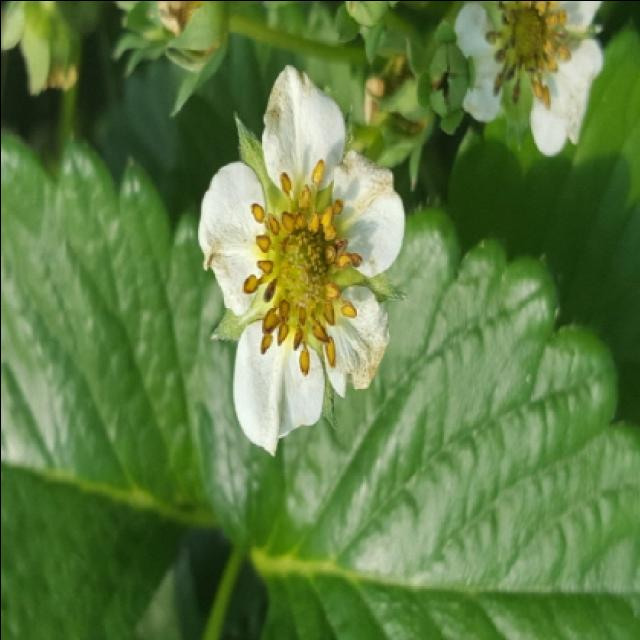Blossom Blight: (240, 155, 364, 377)
